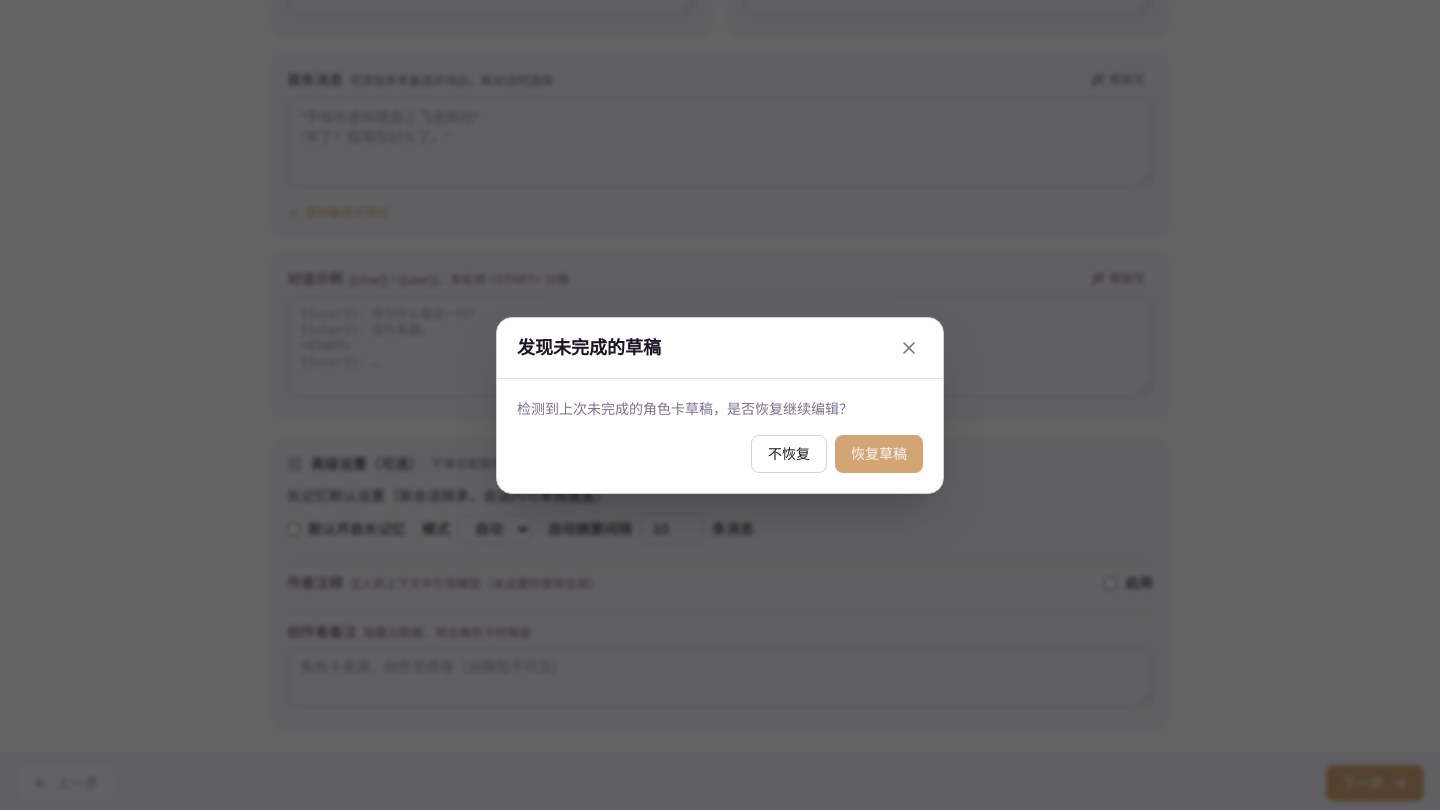
CharacterCreatePage（向导容器） › 存在草稿时弹出恢复确认，可恢复
The width and height of the screenshot is (1440, 810).
(page scrolled)
expect the heading "发现未完成的草稿" is shown: met, box [517,334,661,362]
Click the button "恢复草稿" at (879, 454), box [835,434,923,472]
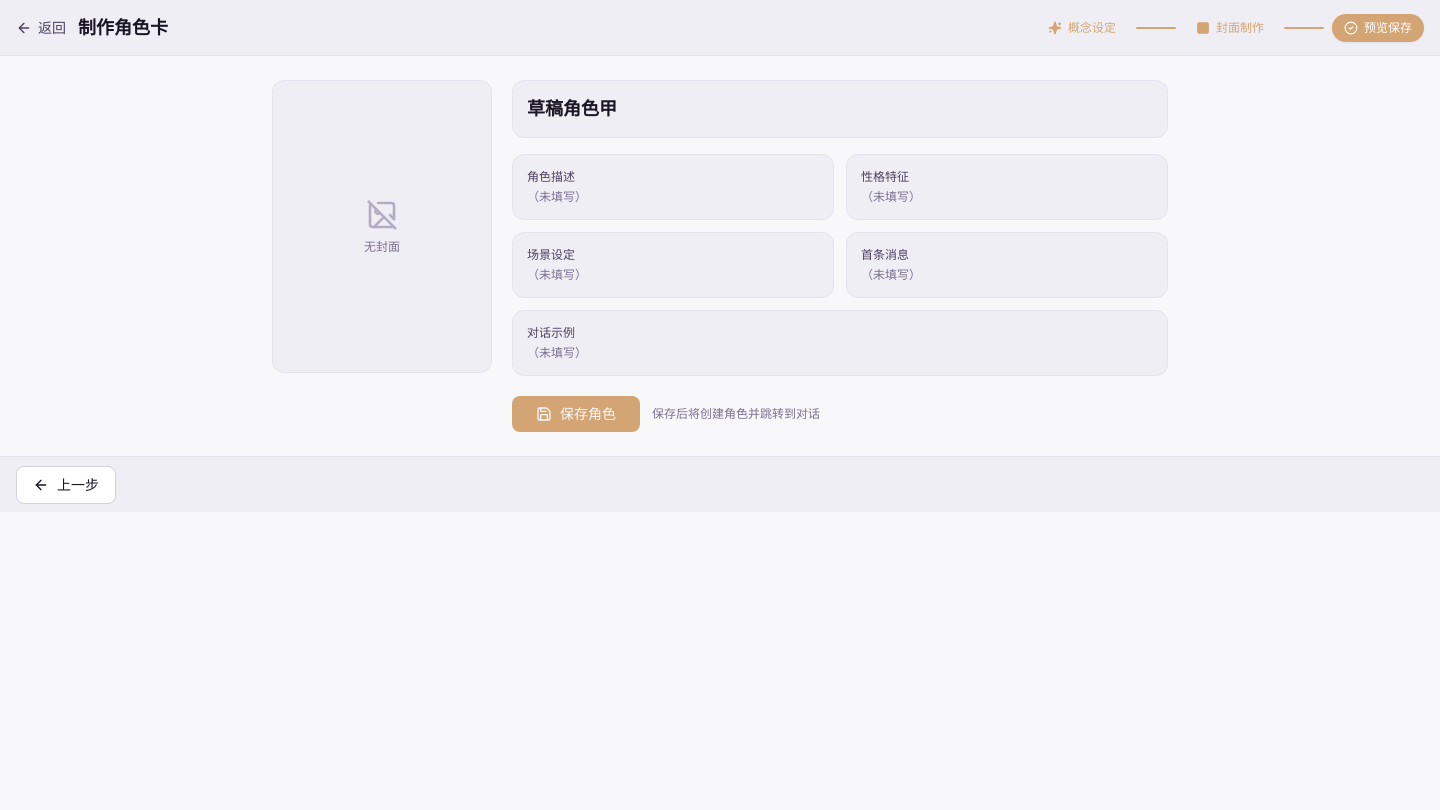
expect the button "保存角色" is shown: met, box [512,396,640,432]
expect the heading "草稿角色甲" is shown: met, box [527,95,617,123]
